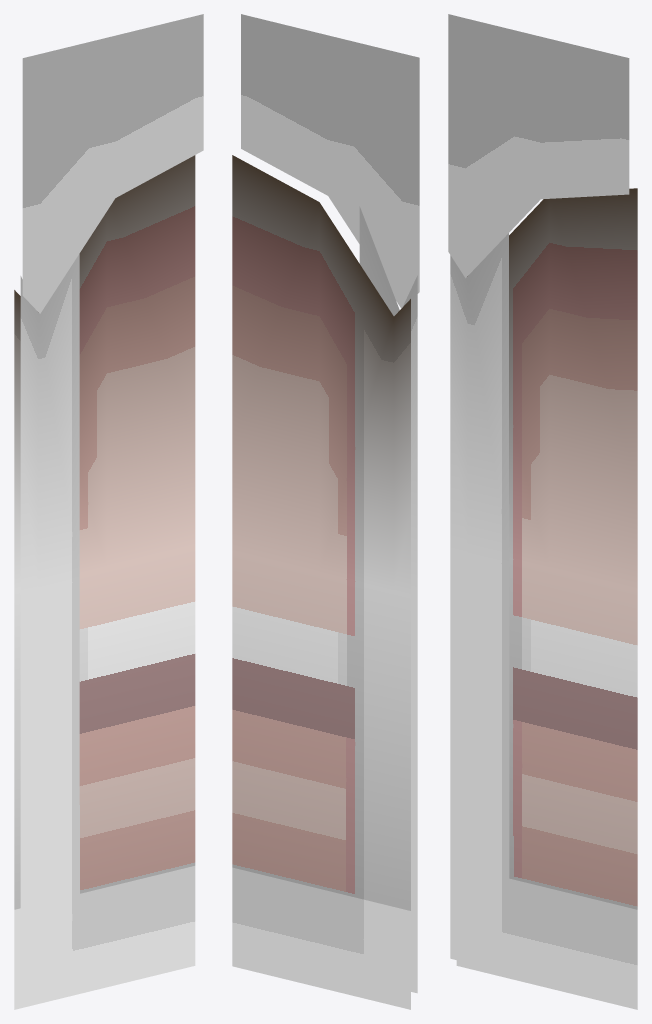
The picture shows the model from 3 angles, left to right: view 1: azimuth 30°, elevation 25°; view 2: azimuth 150°, elevation 25°; view 3: azimuth 330°, elevation 25°; orthographic projection.
Bounding box in the file's own units: 1 × 5.06 × 0.082.
1 material, 1 textured.
